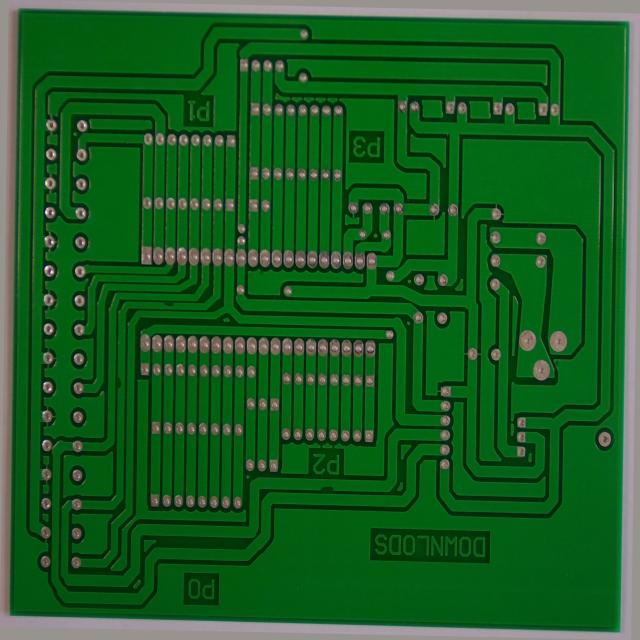mouse_bite: (321, 487, 339, 500), (159, 300, 175, 312), (112, 380, 122, 398)
